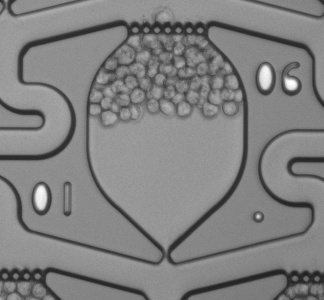AptNum: (249, 56, 305, 102)
Marker: (250, 208, 268, 226)
StNum: (27, 174, 80, 220)
